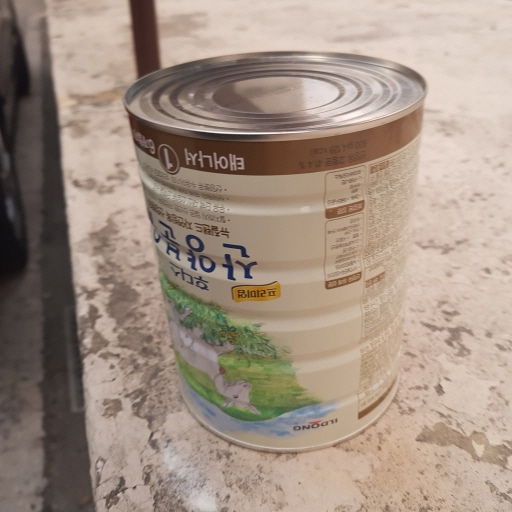Metal_1: (125, 47, 429, 457)
